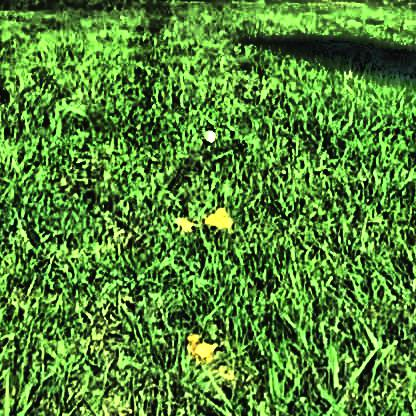golfball: (199, 125, 214, 140)
